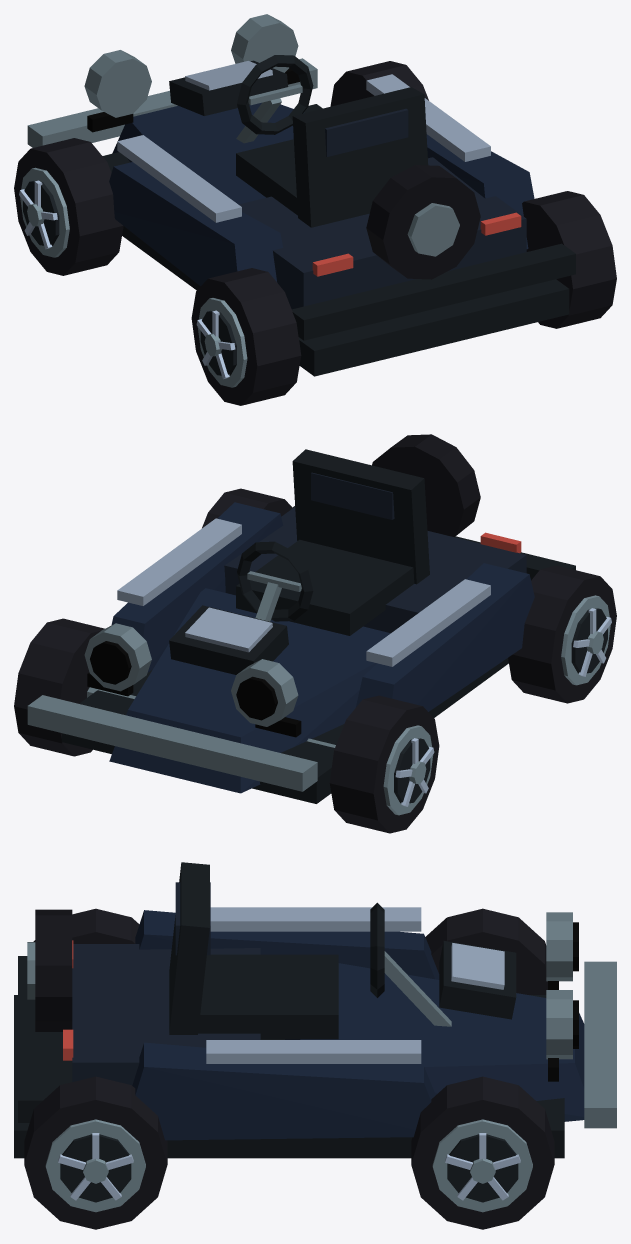
The model's file is kart.glb.
The picture shows the model from 3 angles, top to bottom: view 1: azimuth 30°, elevation 25°; view 2: azimuth 150°, elevation 25°; view 3: azimuth 270°, elevation 25°; orthographic projection. The views are drawn at different scales.
Parts seen in each view (by area): view 1: chassis, wheel-rear-left, wheel-front-left, wheel-rear-right, wheel-front-right; view 2: chassis, wheel-front-left, wheel-rear-left, wheel-front-right, wheel-rear-right; view 3: chassis, wheel-front-right, wheel-rear-right, wheel-front-left, wheel-rear-left.
Boxes of the visible parts, x1,y1,x2,y2 form: chassis: (27,14,575,376); wheel-rear-left: (191,268,301,405); wheel-front-left: (14,138,123,275); wheel-rear-right: (522,191,616,328); wheel-front-right: (330,61,428,106); chassis: (27,434,575,803); wheel-front-left: (329,695,439,833); wheel-rear-left: (508,565,616,703); wheel-front-right: (14,618,104,756); wheel-rear-right: (202,488,292,528); chassis: (14,862,616,1158); wheel-front-right: (411,1076,554,1229); wheel-rear-right: (24,1076,167,1229); wheel-front-left: (425,908,547,994); wheel-rear-left: (33,908,139,943).
Size of the model in its own units: 2.38 by 1.3 by 2.95.
